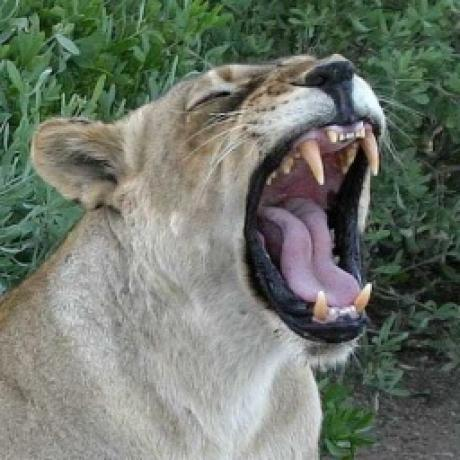Lion: (0, 39, 391, 460)
